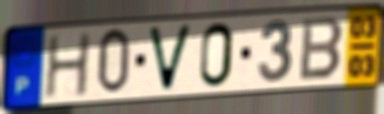0: (95, 26, 135, 100), (198, 21, 235, 91)
3: (256, 17, 295, 86)
B: (297, 16, 347, 83)
H: (42, 30, 93, 101)
V: (145, 23, 195, 95)
